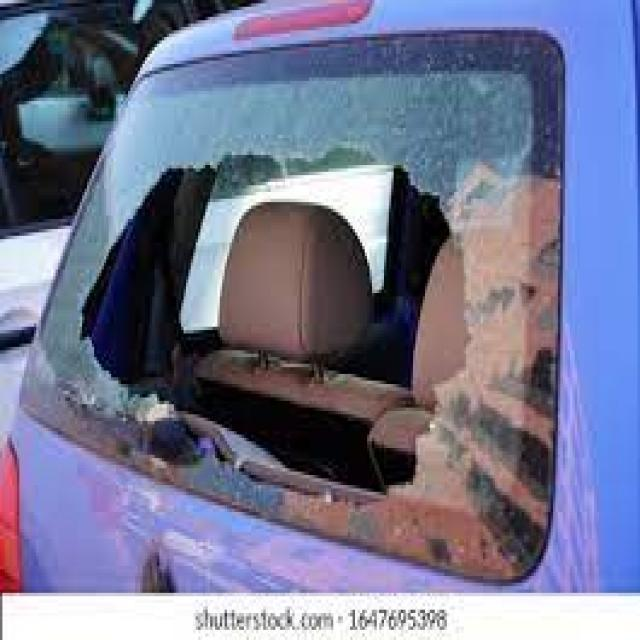damaged-rear-window: (18, 26, 570, 583)
